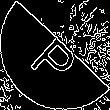P_NE: (25, 24, 85, 86)
